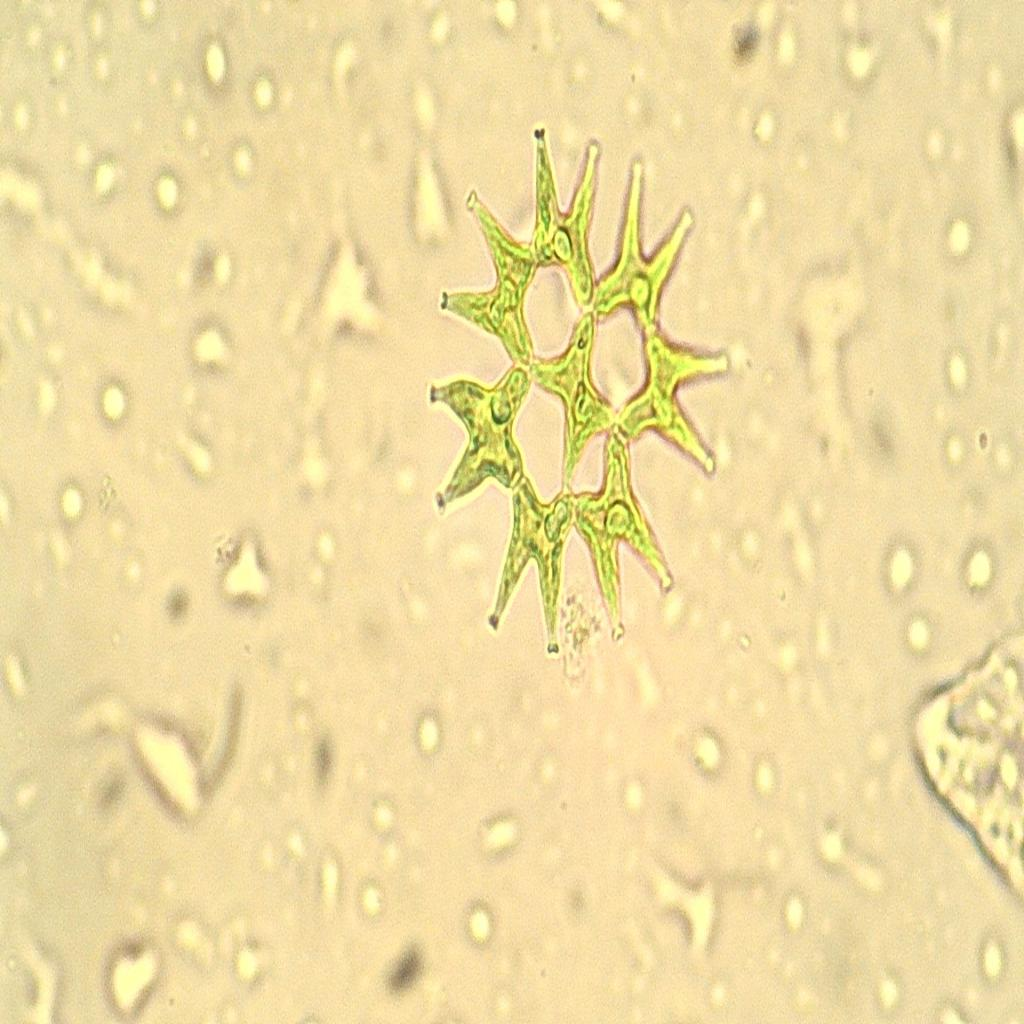Pediastrum_1T: (404, 121, 729, 680)
